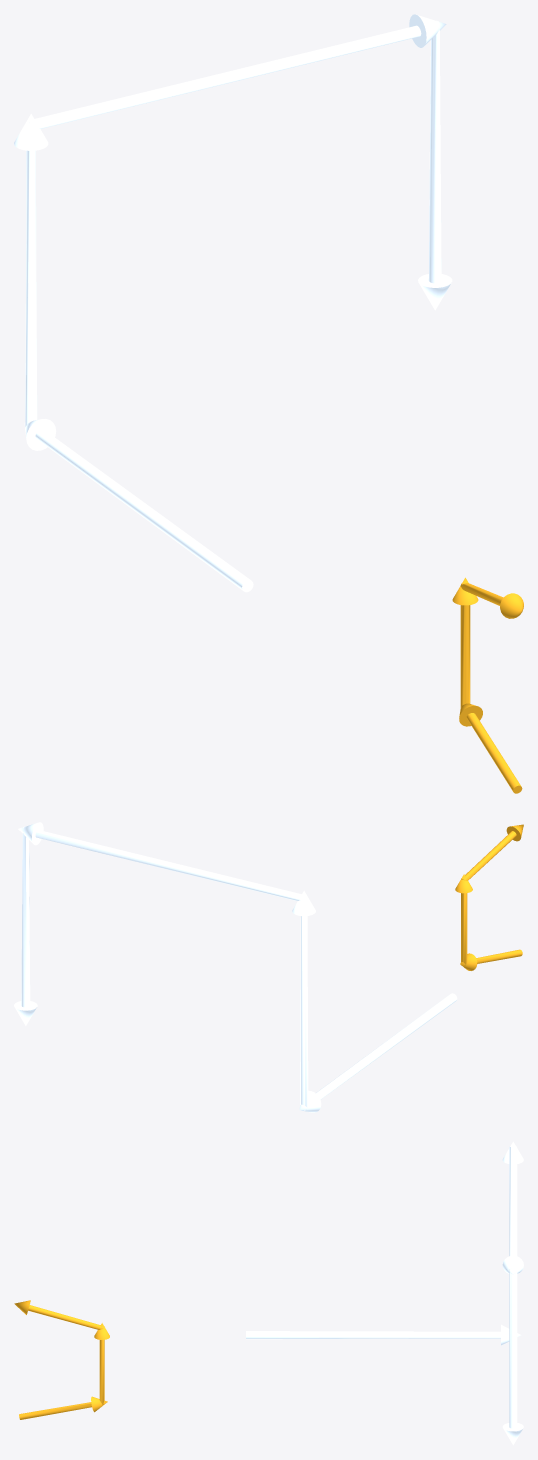
The model's file is vacuum_dryer_flow.glb.
3 views of the same model, one above another, from view 1: azimuth 30°, elevation 25°; view 2: azimuth 150°, elevation 25°; view 3: azimuth 270°, elevation 25° (orthographic). The views are drawn at different scales.
Parts seen in each view (by area): view 1: vapour, heating_medium; view 2: vapour, heating_medium; view 3: vapour, heating_medium.
Part boxes in pixels (left/top/right/bottom): vapour: left=14, top=14, right=452, bottom=592; heating_medium: left=452, top=577, right=523, bottom=793; vapour: left=14, top=822, right=457, bottom=1112; heating_medium: left=455, top=824, right=523, bottom=970; vapour: left=246, top=1141, right=523, bottom=1445; heating_medium: left=14, top=1300, right=109, bottom=1419.
Bounding box in the file's own units: 1.5 × 1.37 × 2.48.
